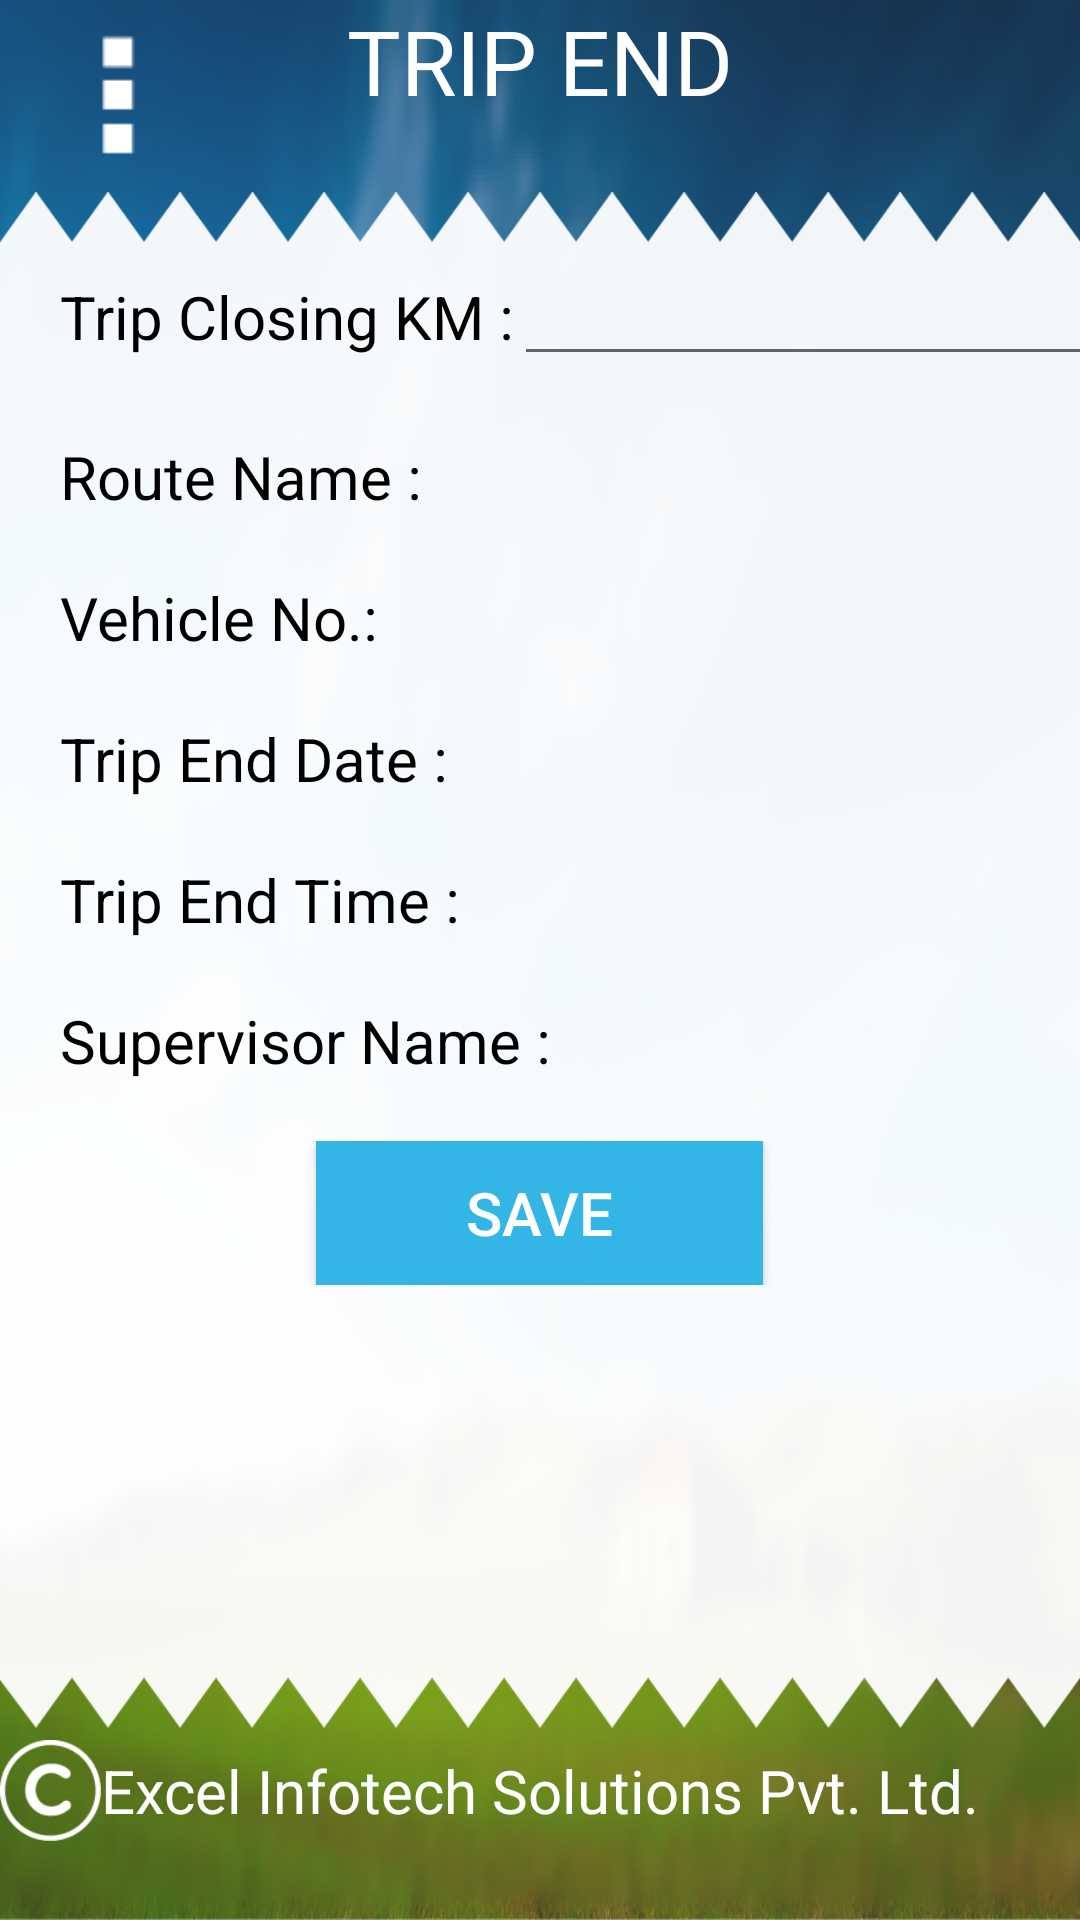

Where to tap for icons on this 1080px×1920px app screen, as [x,y]:
copyright: [50,1784]
